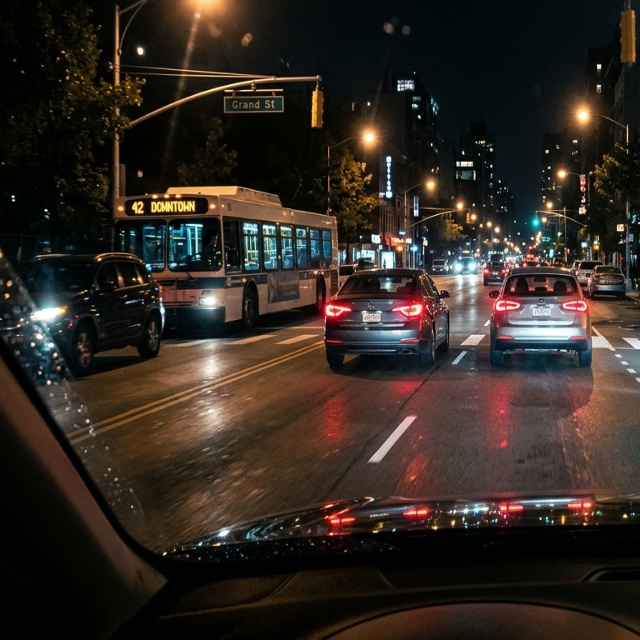bus: (114, 185, 337, 334)
car: (21, 251, 163, 372), (323, 266, 450, 371), (490, 298, 592, 368)
